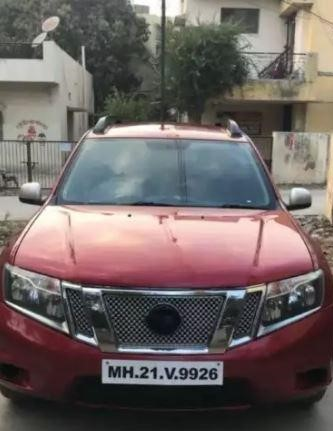MH21V9926: (101, 357, 223, 386)
